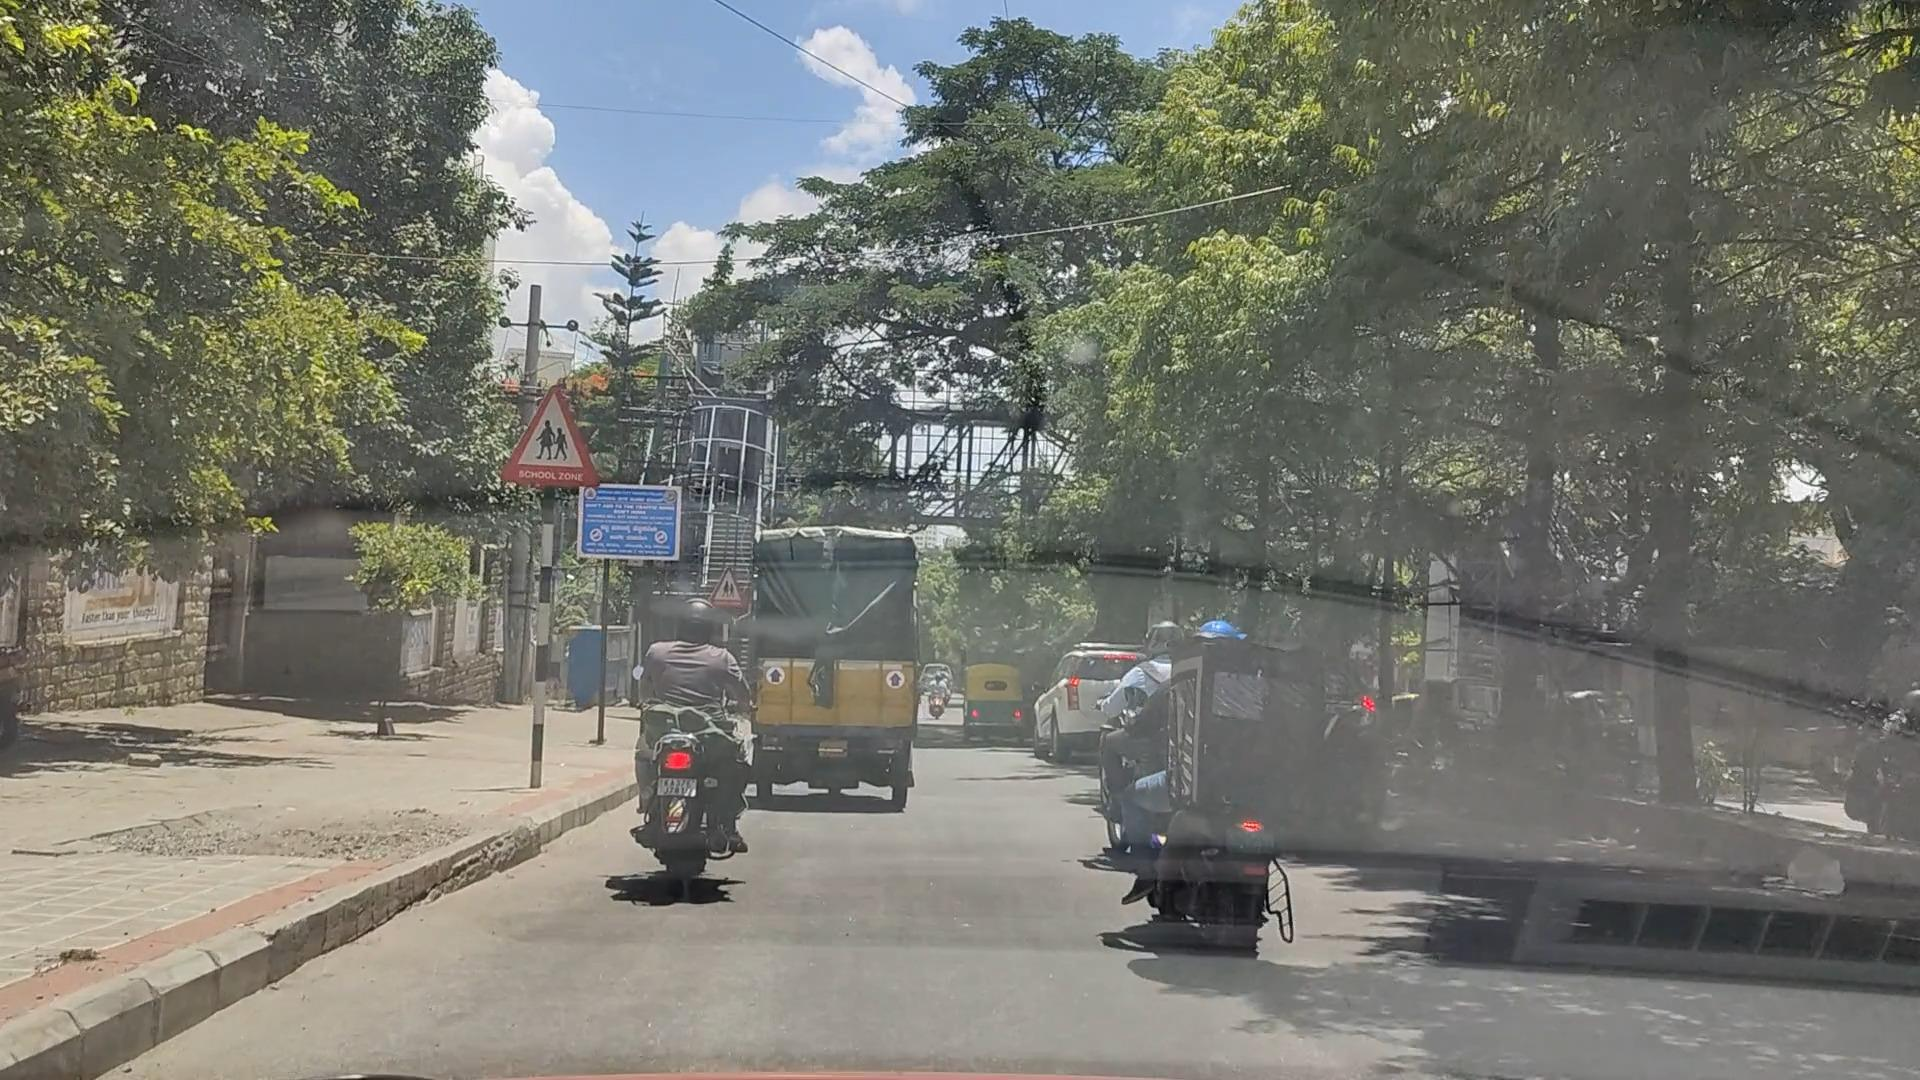HMV: (738, 535, 927, 822)
